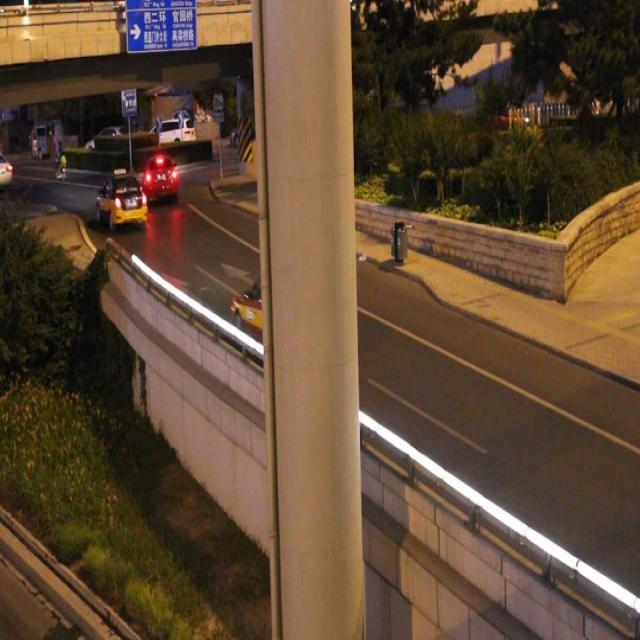car: (230, 262, 314, 357), (96, 168, 147, 231), (144, 155, 178, 202)
